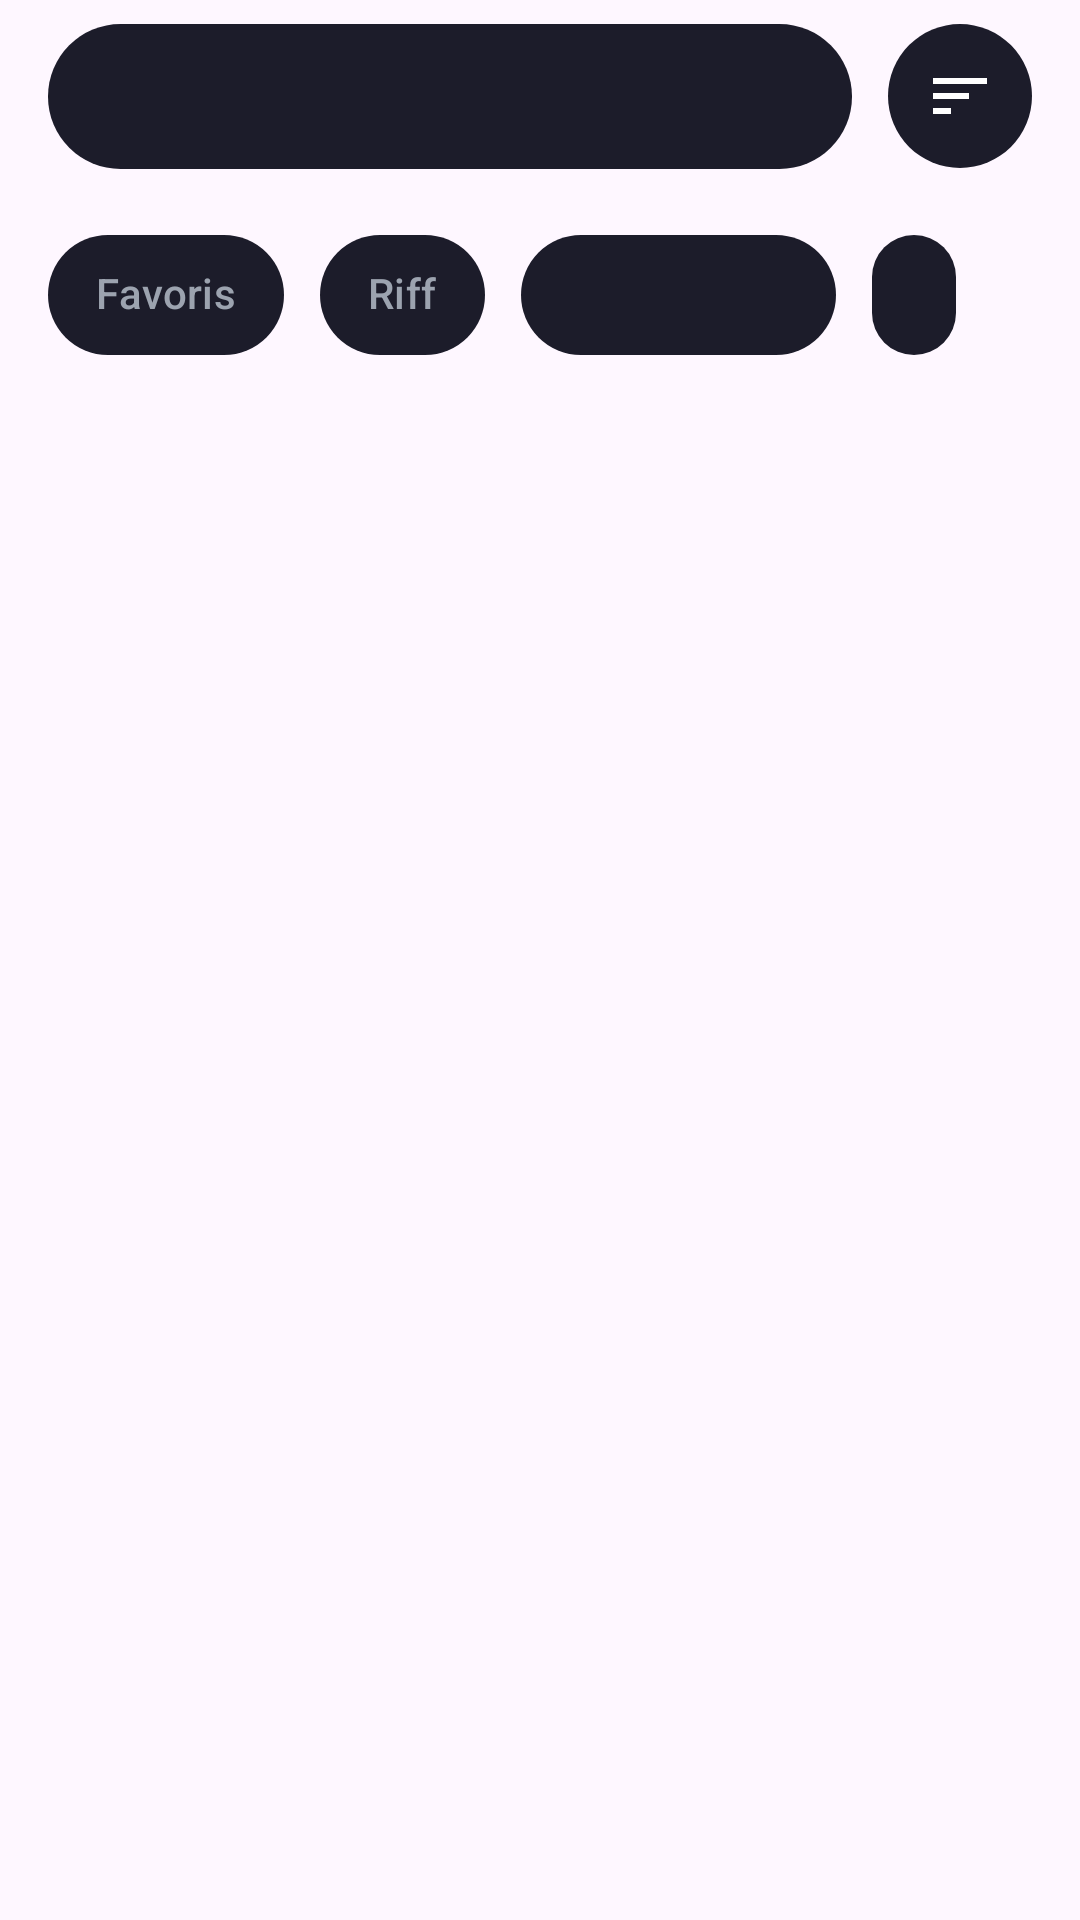

Where icons sit on this 1080w x 1920h app screen, as BBox(x1, y1, x2, y2):
Trier: BBox(888, 24, 1032, 168)
